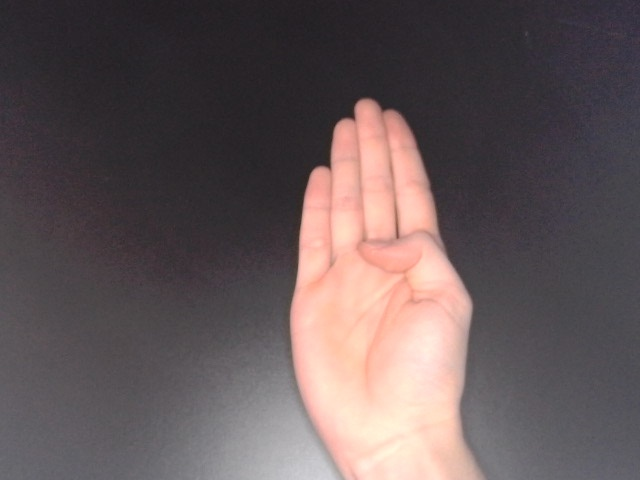b: (283, 94, 479, 461)
